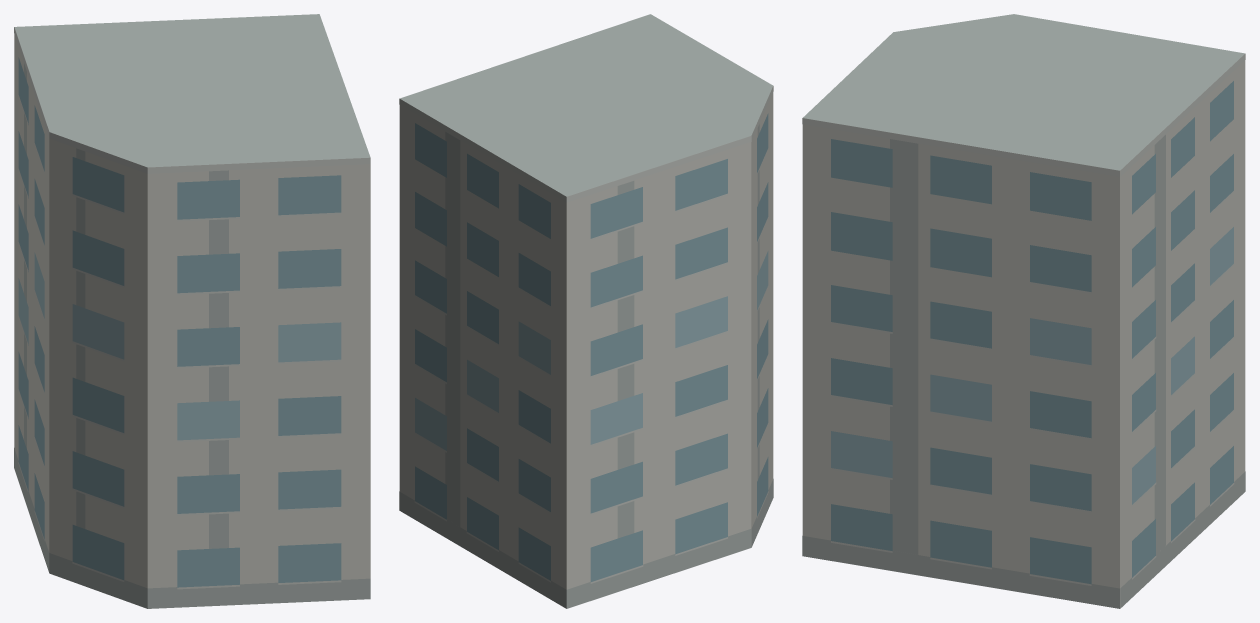
Rendered from survey-upis-32566865.glb.
3 views of the same model, side by side, from view 1: azimuth 30°, elevation 25°; view 2: azimuth 150°, elevation 25°; view 3: azimuth 270°, elevation 25° (orthographic). The views are drawn at different scales.
Visible parts, largest first — view 1: survey-upis-32566865.tmp; view 2: survey-upis-32566865.tmp; view 3: survey-upis-32566865.tmp.
Part boxes in pixels (x1,y1,x2,y2): survey-upis-32566865.tmp: [14, 14, 370, 608]; survey-upis-32566865.tmp: [399, 14, 773, 608]; survey-upis-32566865.tmp: [802, 14, 1245, 608].
Bounding box in the file's own units: 12.67 × 16.5 × 15.13.
